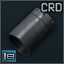Ferfrans CRD Concussion Reduction Device 5.56x45: (0, 0, 64, 64)
